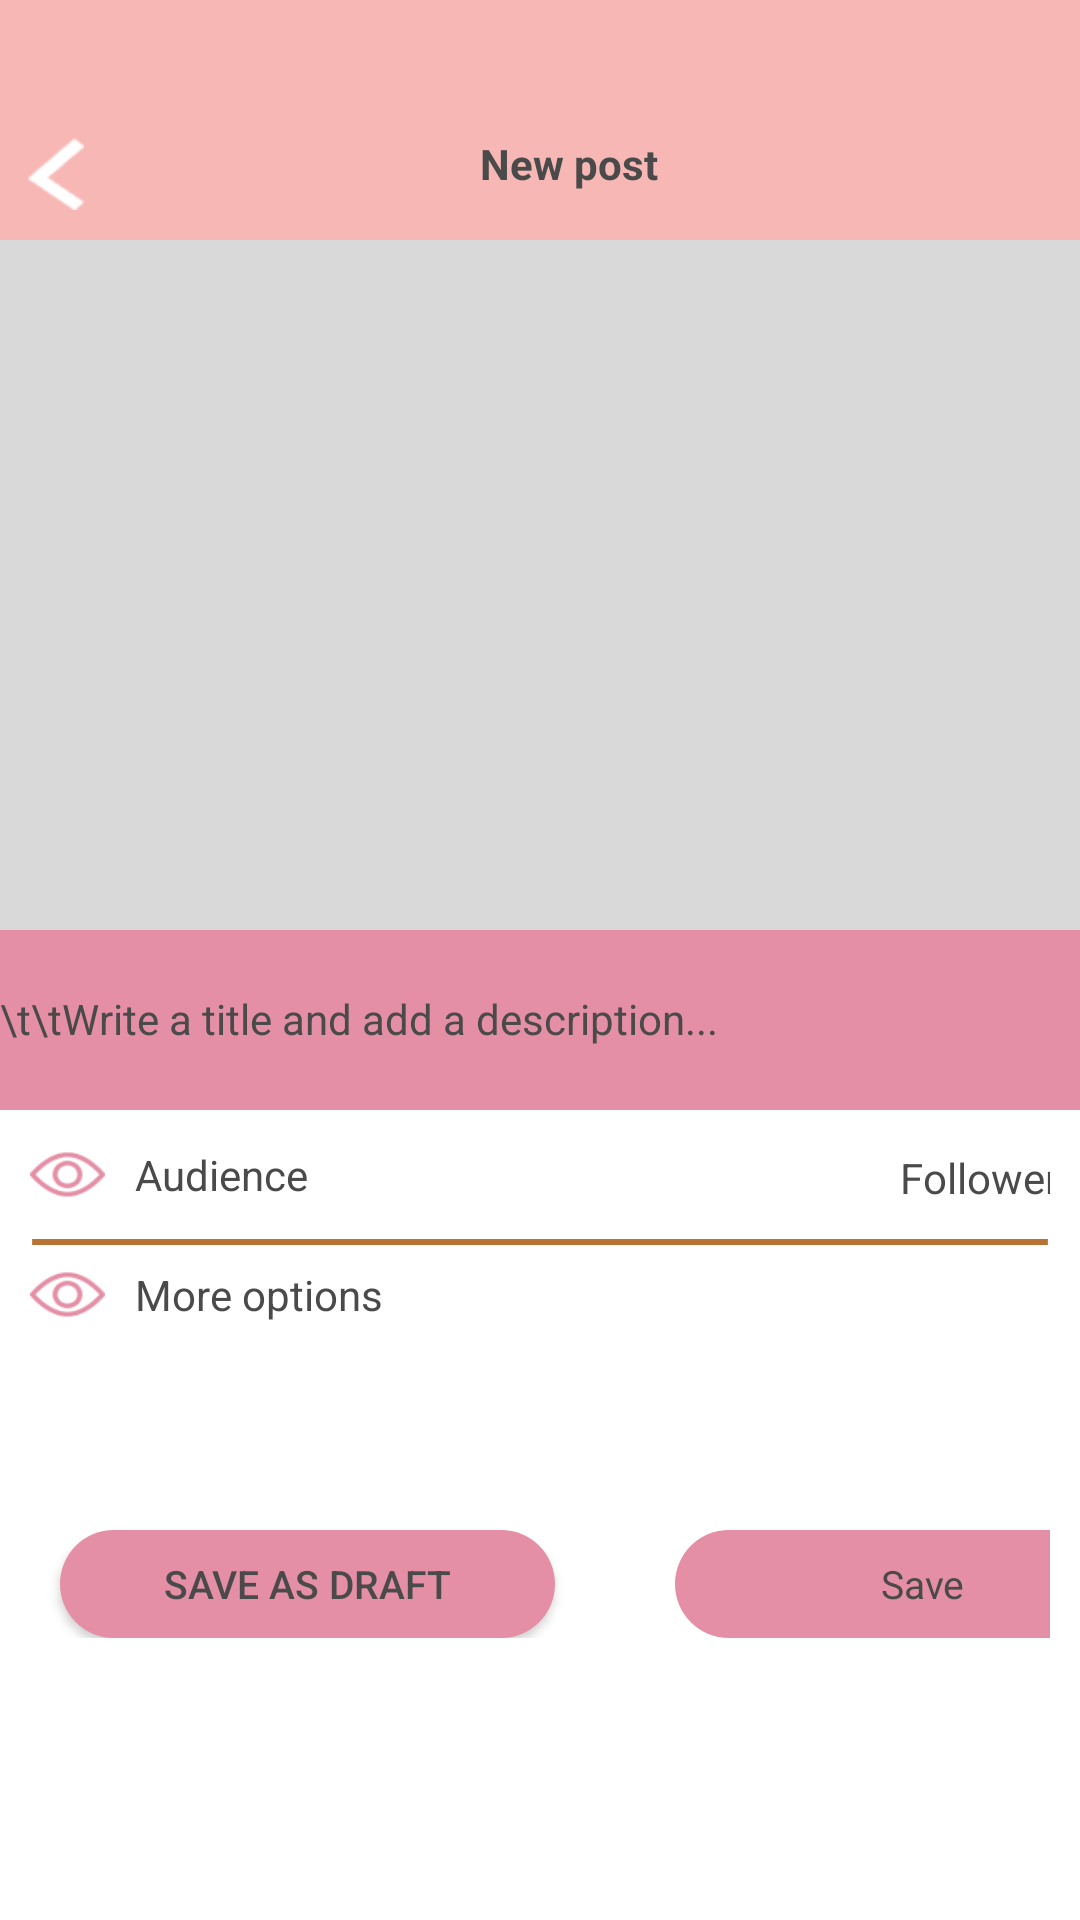

Named icons in this screenshot (1080px×1920px) and their centers, [x,y]:
back: [56,174]
eye: [67,1174], [67,1294]
